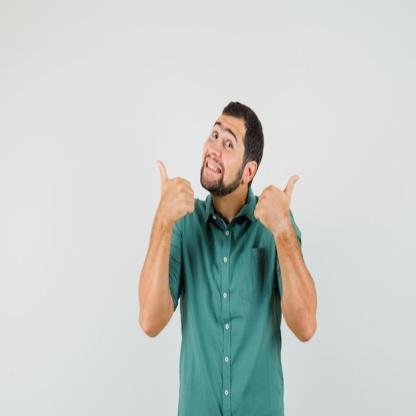thumb_up: (252, 172, 301, 236), (152, 158, 198, 222)
